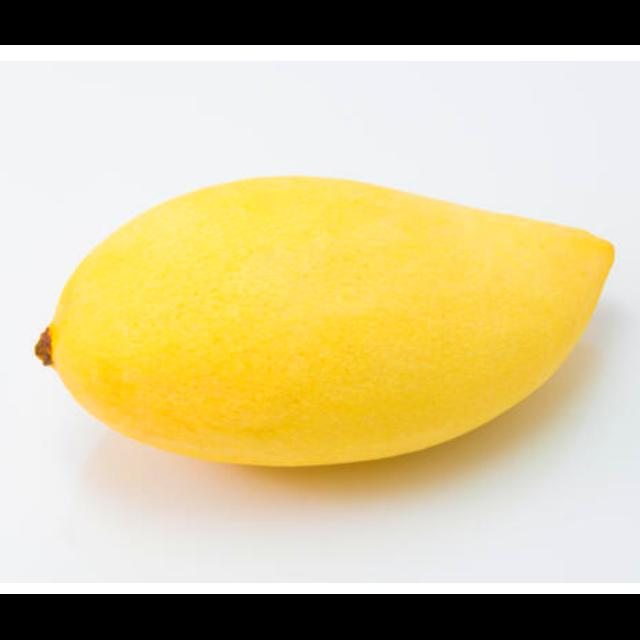mango: (38, 173, 615, 471)
